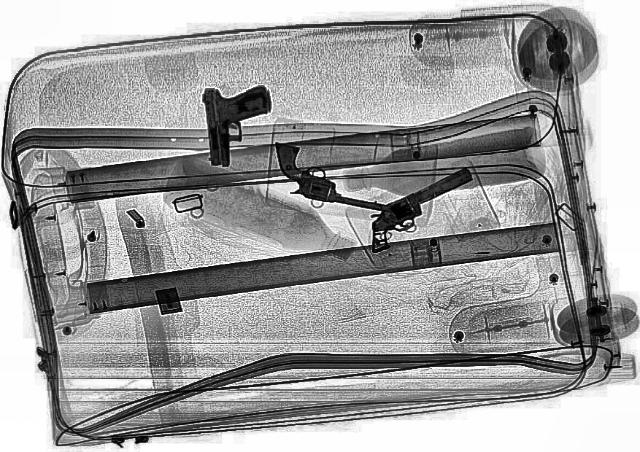Gun: (340, 166, 496, 254), (253, 141, 425, 215), (196, 83, 274, 165)
